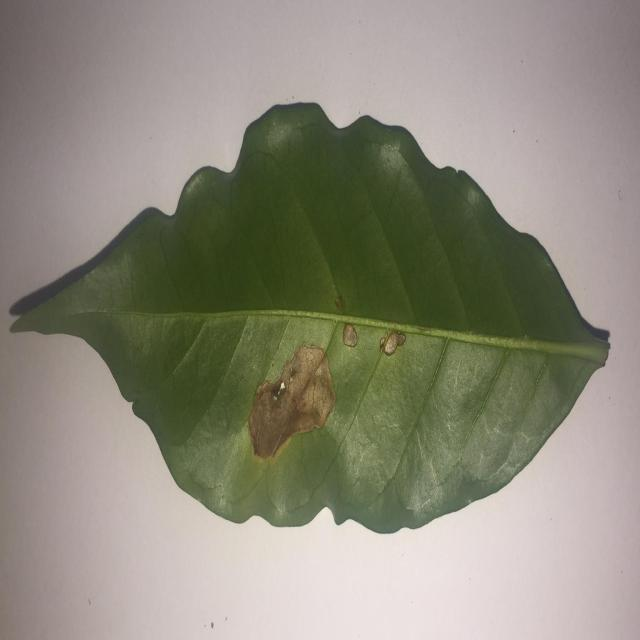miner: (248, 341, 335, 459), (271, 318, 333, 369), (379, 328, 406, 356), (342, 322, 359, 348), (334, 294, 344, 309)
